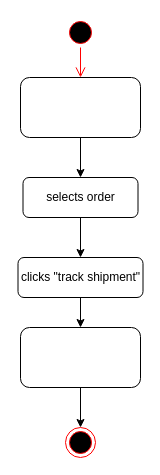
The diagram is 160 pixels wide and 475 high, and some of its shapes have lost their labels. Here are the shapes that lost their labels. From the top down, the centre of each, then its label:
At (x=80, y=107): "customer views order history (AD020)".
At (x=80, y=357): "view status of shipment".
